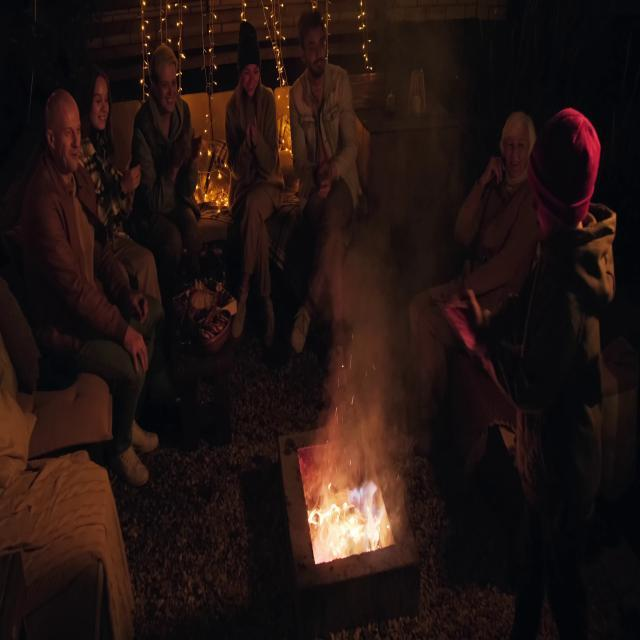Fire: (306, 474, 391, 554)
Smoke: (314, 101, 454, 458)
